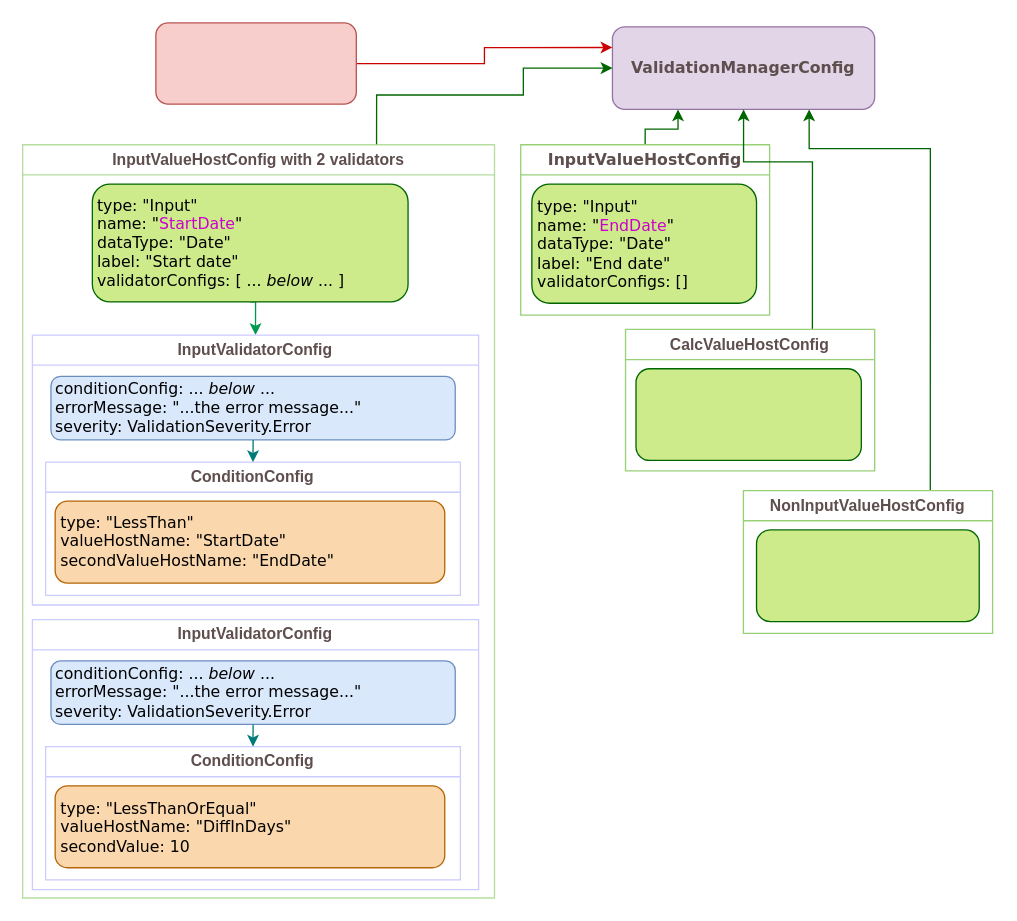
Some shapes in this 1017 by 921 pixel diagram are drawn without their labels. Here are the shapes that lost their labels. From the top down, the centre of each, then its label:
point 255,63: ValidationServices factories services
point 748,413: type: "Calc" name: " DiffInDays " calcFn: function callback
point 867,575: type: "NonInput" name: " TimeZone " dataType: "String"
